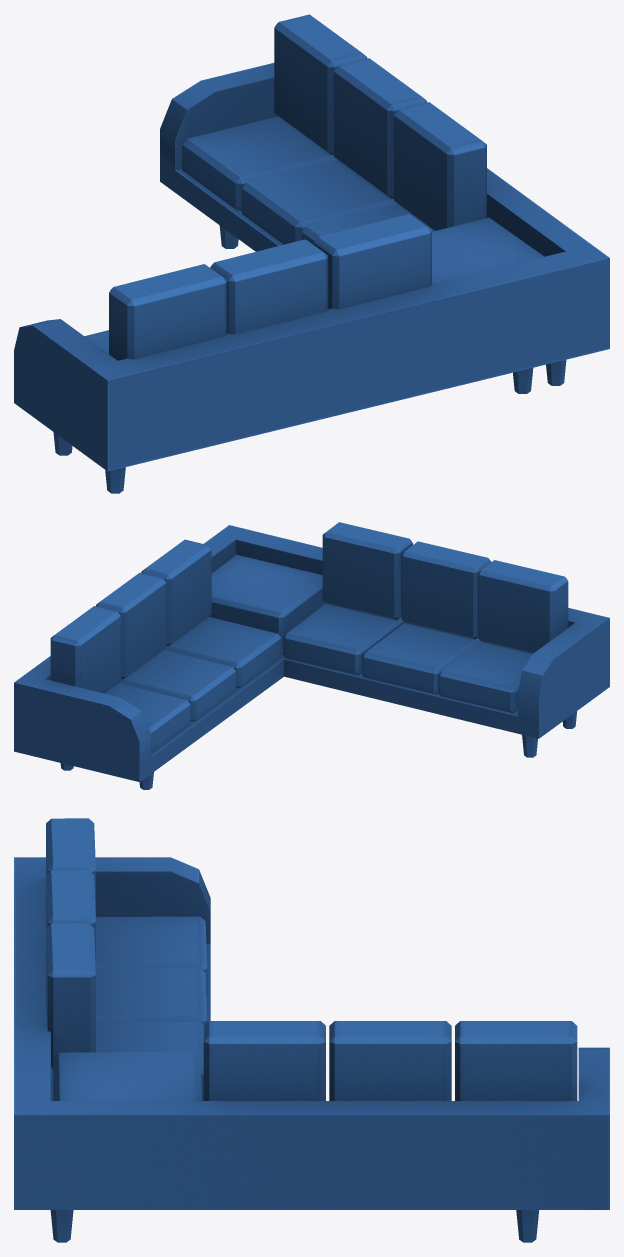
The model's file is sofa02.fbx.
3 renders of one model, top to bottom at view 1: azimuth 30°, elevation 25°; view 2: azimuth 150°, elevation 25°; view 3: azimuth 270°, elevation 25°, orthographic. The views are drawn at different scales.
Visible parts, largest first — view 1: polySurface38; view 2: polySurface38; view 3: polySurface38.
Boxes of the visible parts, x1,y1,x2,y2 form: polySurface38: (14,14,609,493); polySurface38: (14,522,609,789); polySurface38: (14,818,609,1242).
Size of the model in its own units: 53.34 by 19.45 by 52.24.
1 material, 1 textured.
